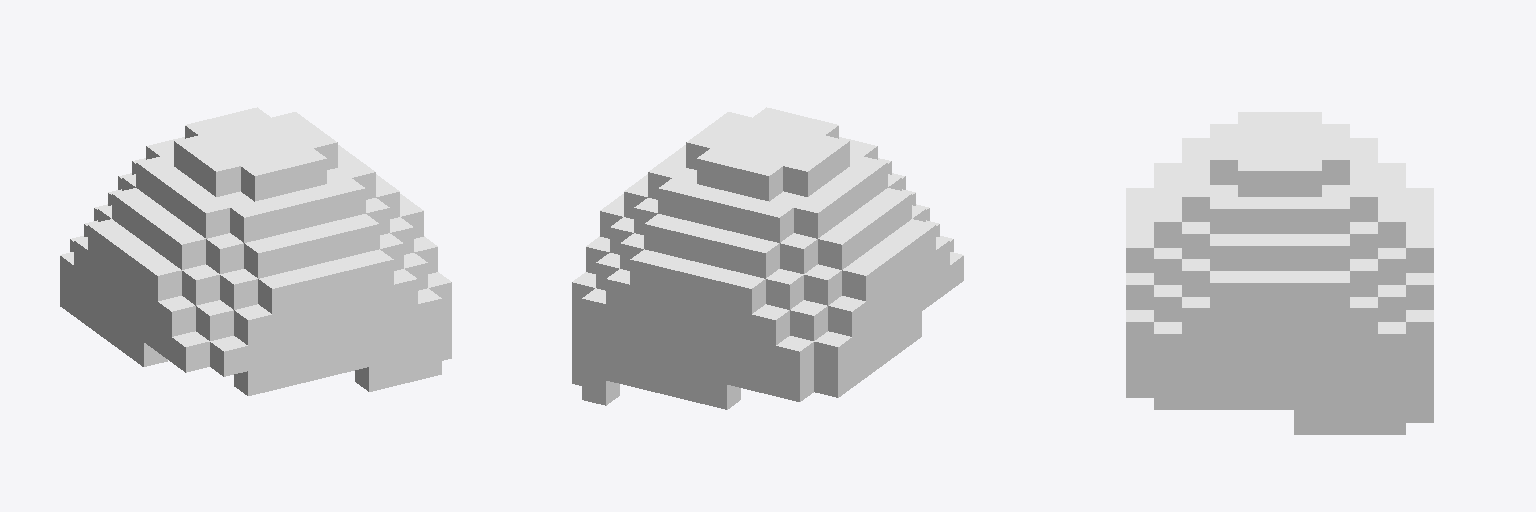
The model's file is egg_tophalf.obj.
3 renders of one model, left to right at view 1: azimuth 30°, elevation 25°; view 2: azimuth 150°, elevation 25°; view 3: azimuth 270°, elevation 25°, orthographic.
Parts seen in each view (by area): view 1: egg_tophalf.001; view 2: egg_tophalf.001; view 3: egg_tophalf.001.
Part boxes in pixels (left/top/right/bottom): egg_tophalf.001: left=60, top=107, right=451, bottom=395; egg_tophalf.001: left=572, top=107, right=963, bottom=409; egg_tophalf.001: left=1126, top=112, right=1433, bottom=434.
Size of the model in its own units: 1.1 by 0.9 by 1.1.